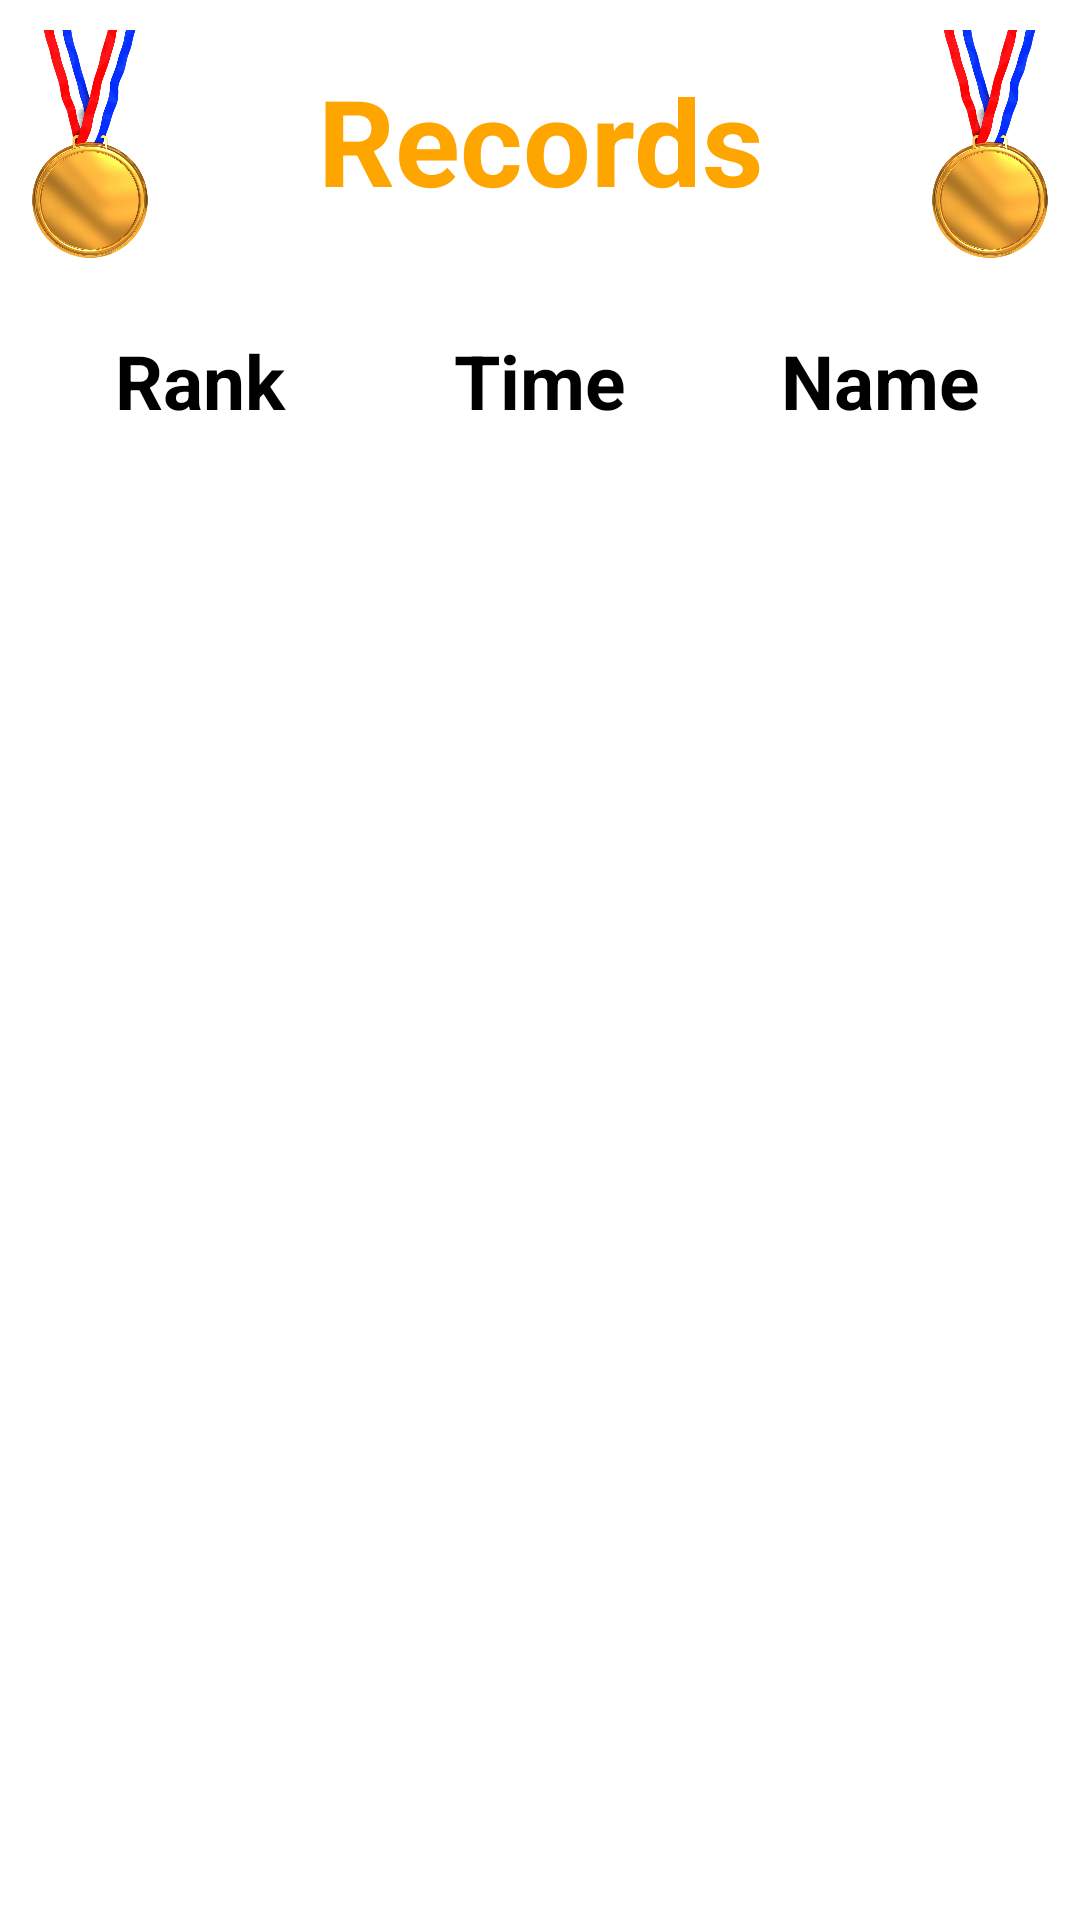

Icon click points for this 1080 × 1920 phone screenshot, format [x,y]:
medal: [90,144], [990,144]
